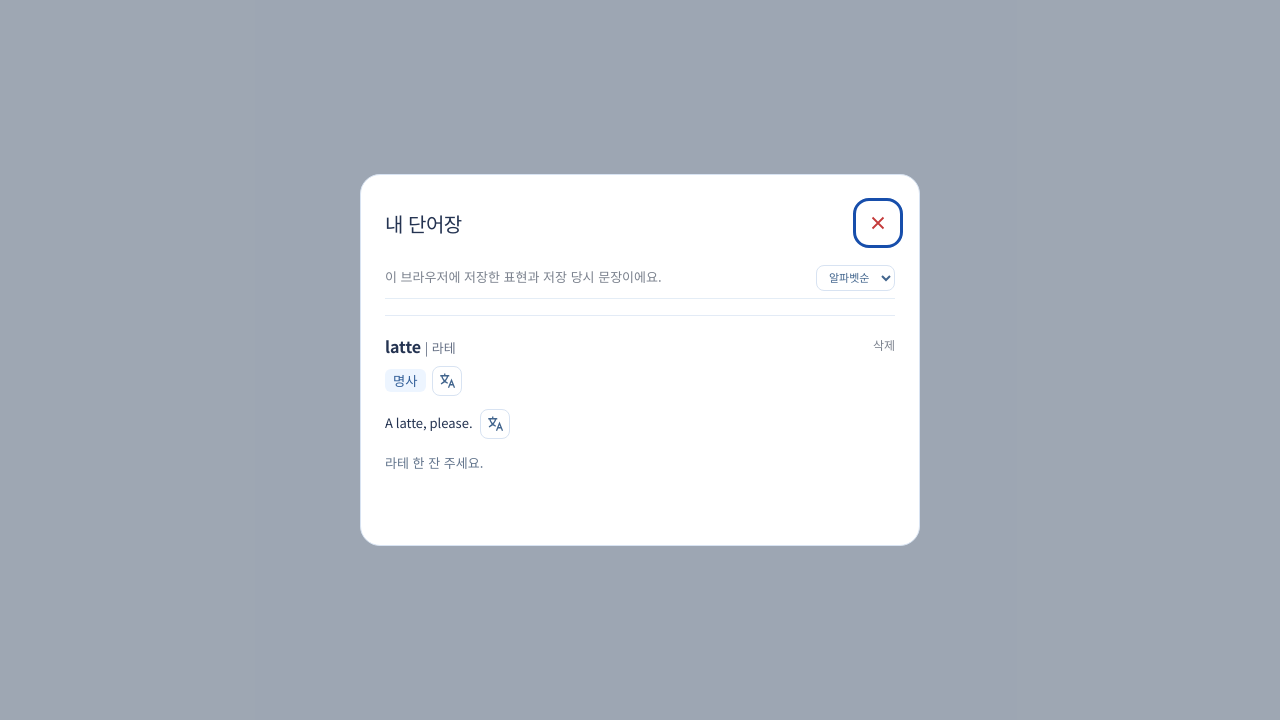
Test case: 기존 저장 항목의 뜻을 조회하고 캐시하며 최초 원문과 출처를 유지한다
Expected: the text "명사" is shown, [385,370,426,392]
Expected: the text "라테 한 잔 주세요." is shown, [385,453,483,472]
Click the button named "단어 뜻".
click(446, 381)  # box [432,366,462,396]
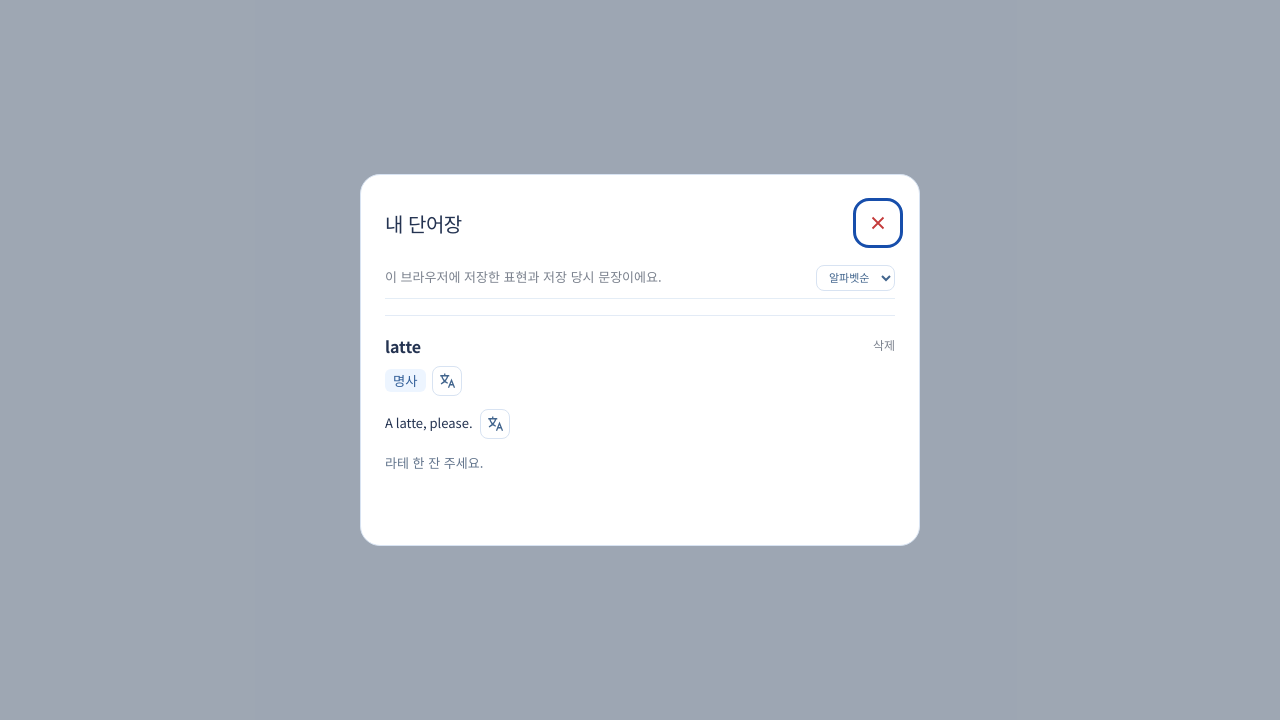
Expected: the text "라테 한 잔 주세요." is shown, [385,453,483,472]
Click the button named "단어 뜻".
click(446, 381)  # box [432,366,462,396]
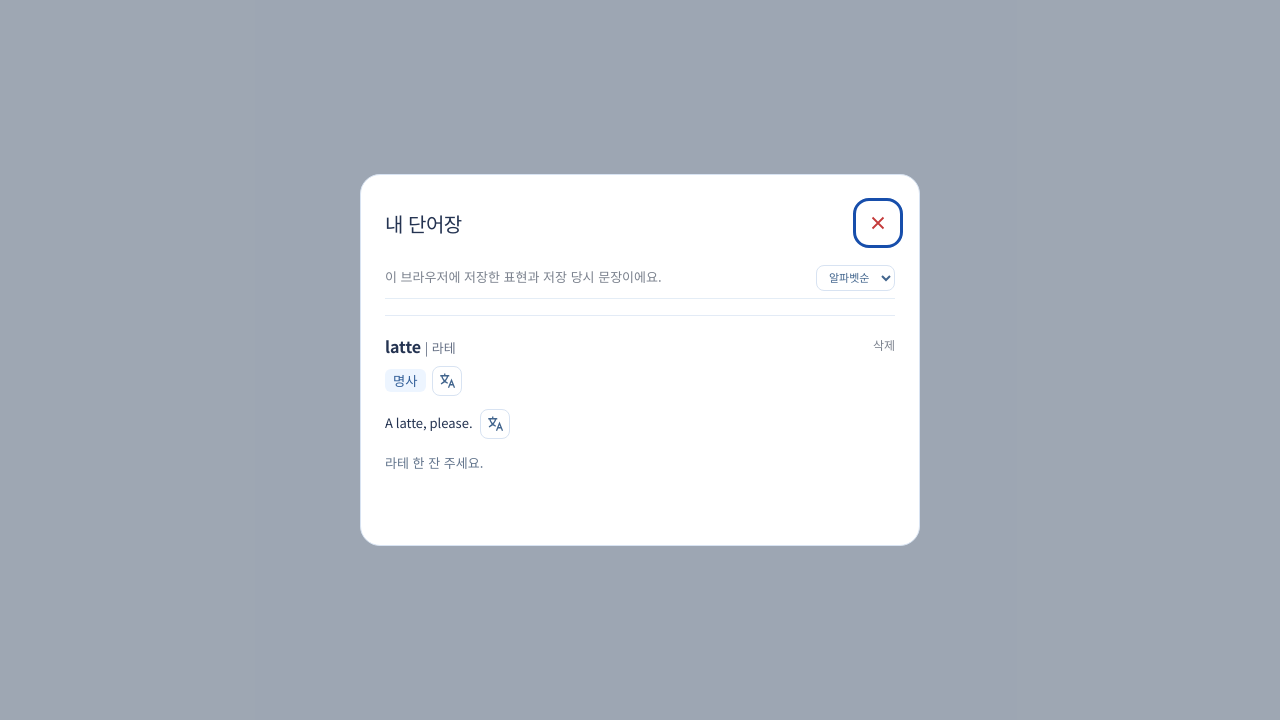
Click the button named "한글 번역".
click(495, 424)  # box [480,409,510,439]
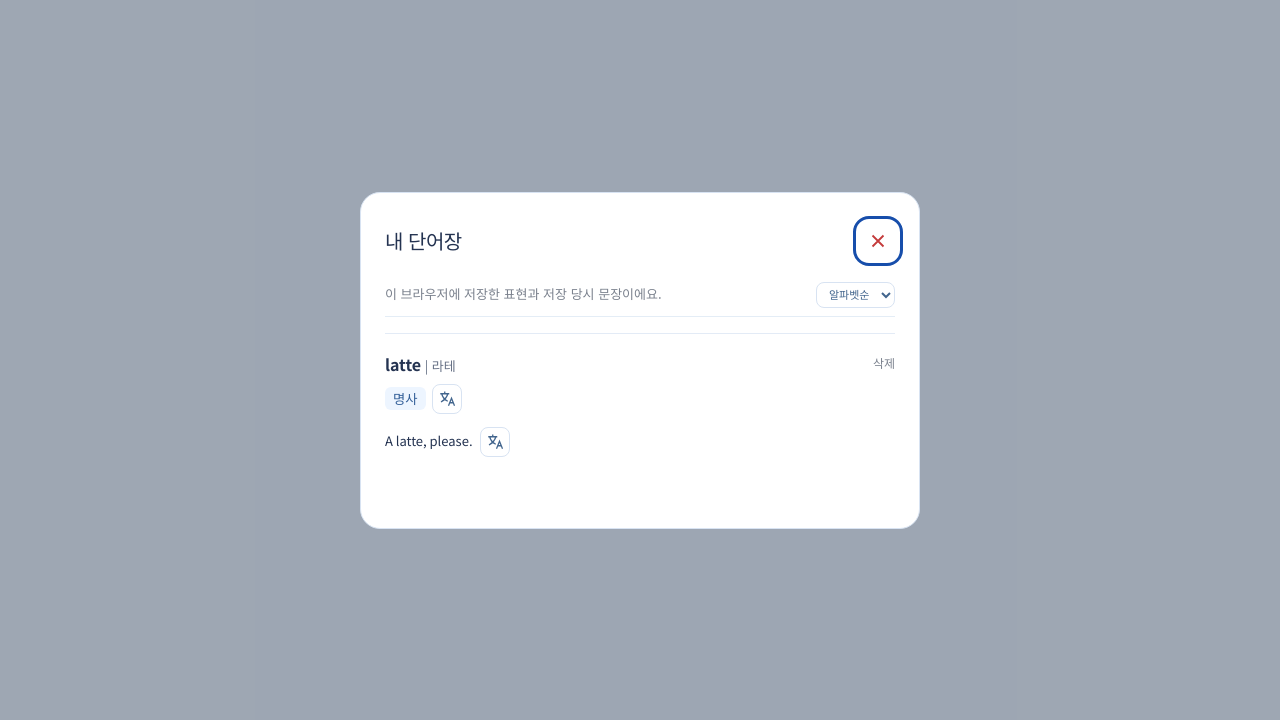
Expected: the text "A latte, please." is shown, [385,430,472,449]
Expected: the text "라테 한 잔 주세요." is gone
Click the button named "한글 번역".
click(495, 442)  # box [480,426,510,456]
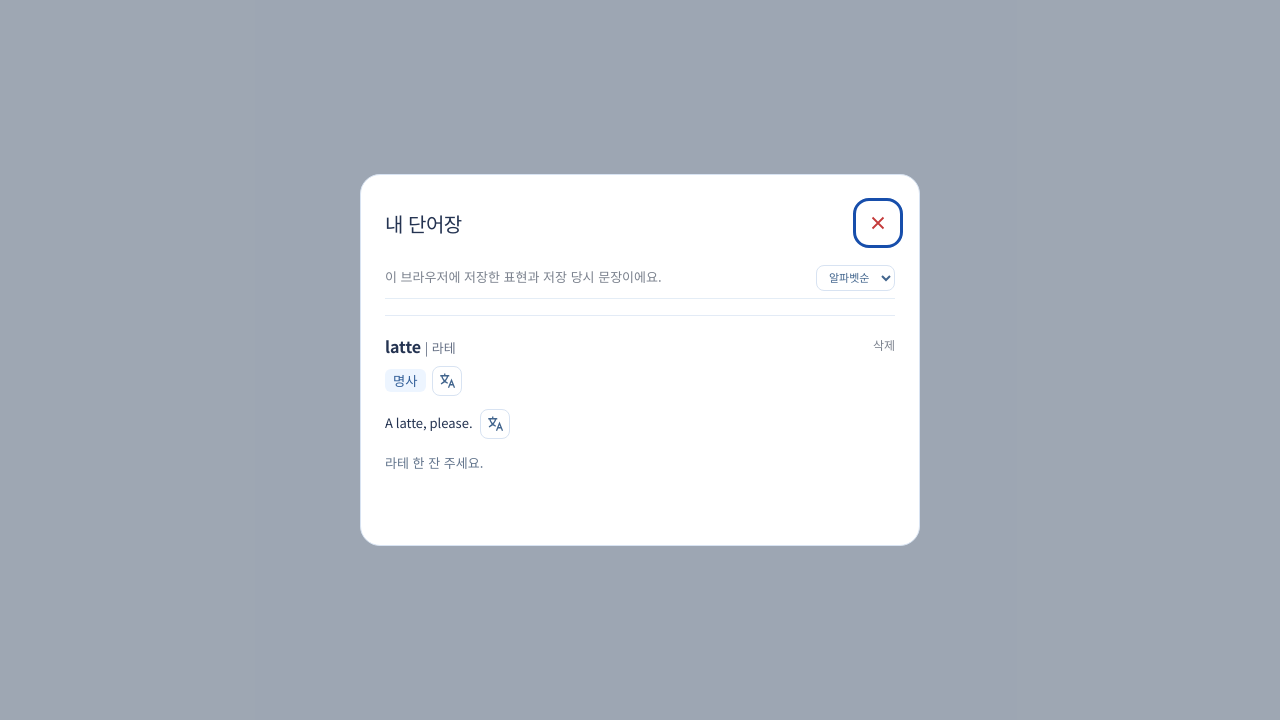
Expected: the text "라테 한 잔 주세요." is shown, [385,453,483,472]
